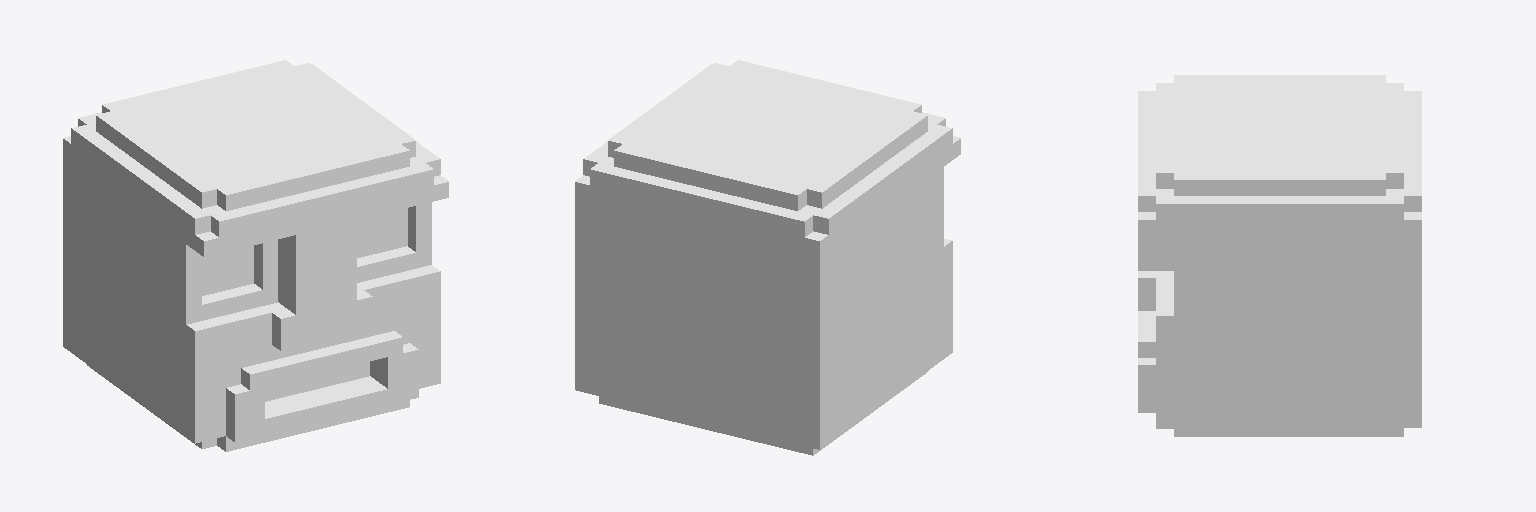
File: tt-stone-face.obj
The picture shows the model from 3 angles: view 1: azimuth 30°, elevation 25°; view 2: azimuth 150°, elevation 25°; view 3: azimuth 270°, elevation 25°; orthographic projection.
Bounding box in the file's own units: 16 × 16 × 16.